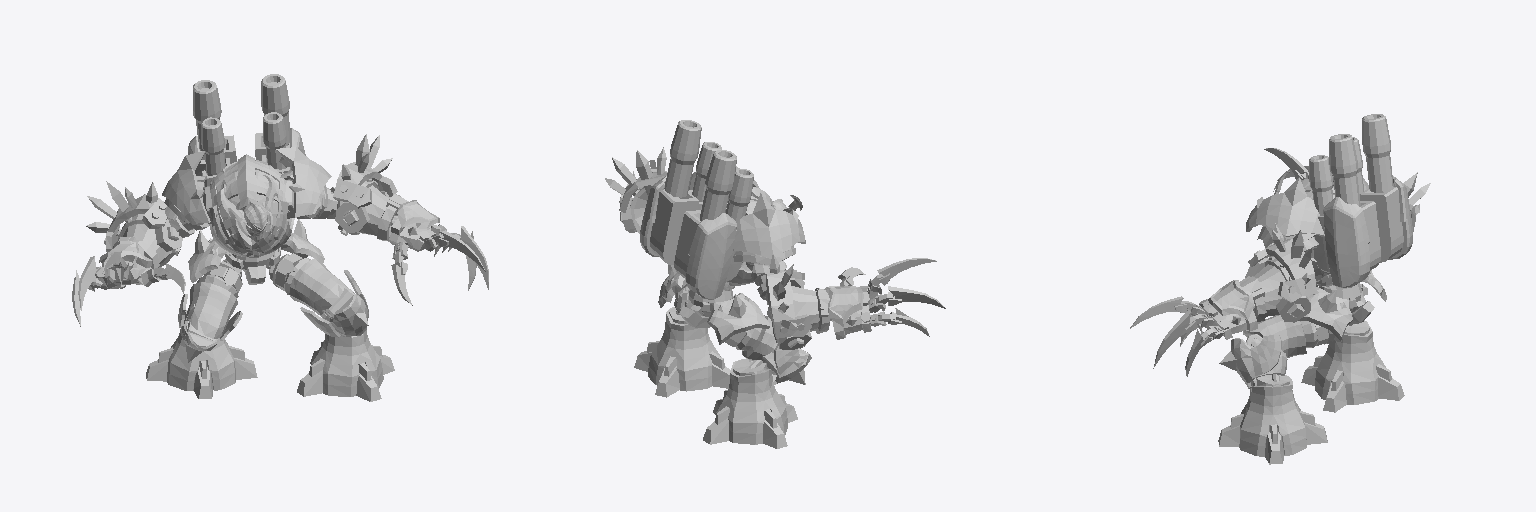
Rendered from Idle (16).obj.
The picture shows the model from 3 angles: view 1: azimuth 30°, elevation 25°; view 2: azimuth 150°, elevation 25°; view 3: azimuth 270°, elevation 25°; orthographic projection.
Visible parts, largest first — view 1: ironreaver03, Object003, ironreaver03_canon, Object002, Object001, Object004, ironreaver02; view 2: ironreaver03, ironreaver03_canon, Object003, Object001, Object002, ironreaver02; view 3: ironreaver03, ironreaver03_canon, Object003, Object002, ironreaver02.
Boxes of the visible parts, x1=… form: ironreaver03: x1=99, y1=147, x2=439, y2=401; Object003: x1=72, y1=216, x2=488, y2=326; ironreaver03_canon: x1=188, y1=74, x2=305, y2=188; Object002: x1=333, y1=134, x2=397, y2=232; Object001: x1=86, y1=181, x2=182, y2=251; Object004: x1=221, y1=174, x2=278, y2=241; ironreaver02: x1=225, y1=247, x2=280, y2=271; ironreaver03: x1=629, y1=166, x2=863, y2=448; ironreaver03_canon: x1=640, y1=120, x2=753, y2=299; Object003: x1=633, y1=160, x2=945, y2=339; Object001: x1=766, y1=254, x2=811, y2=349; Object002: x1=605, y1=147, x2=667, y2=232; ironreaver02: x1=682, y1=282, x2=734, y2=316; ironreaver03: x1=1208, y1=172, x2=1404, y2=464; ironreaver03_canon: x1=1309, y1=114, x2=1412, y2=287; Object003: x1=1130, y1=148, x2=1308, y2=376; Object002: x1=1245, y1=223, x2=1316, y2=322; ironreaver02: x1=1316, y1=274, x2=1367, y2=310.
Bounding box in the file's own units: 313 × 243 × 231.